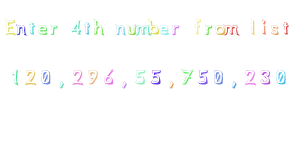,: (117, 78, 131, 91), (228, 80, 242, 93), (57, 78, 68, 91), (167, 78, 177, 92)
0: (274, 66, 289, 88), (212, 68, 227, 88), (39, 69, 53, 89)
1: (7, 68, 22, 88)
2: (242, 63, 258, 90), (71, 68, 86, 88), (24, 68, 38, 87)
3: (259, 67, 273, 86)
4: (69, 17, 83, 40)
5: (148, 64, 165, 90), (132, 66, 149, 89), (196, 67, 211, 90)
6: (102, 68, 118, 87)
7: (180, 65, 194, 89)
9: (87, 68, 101, 88)
E: (4, 14, 15, 39)
b: (149, 17, 160, 39)
e: (159, 19, 171, 41), (38, 22, 49, 40)
f: (190, 17, 203, 39)
h: (92, 14, 108, 40)
i: (258, 17, 271, 39)
l: (245, 16, 260, 38)
m: (224, 19, 242, 42), (136, 19, 150, 40)
n: (112, 19, 127, 38), (16, 21, 29, 39)
o: (214, 20, 226, 39)
r: (170, 21, 184, 40), (49, 19, 60, 39), (203, 21, 214, 39)
s: (269, 20, 281, 39)
t: (83, 18, 93, 40), (281, 18, 292, 38), (29, 17, 38, 38)
u: (127, 20, 138, 38)
